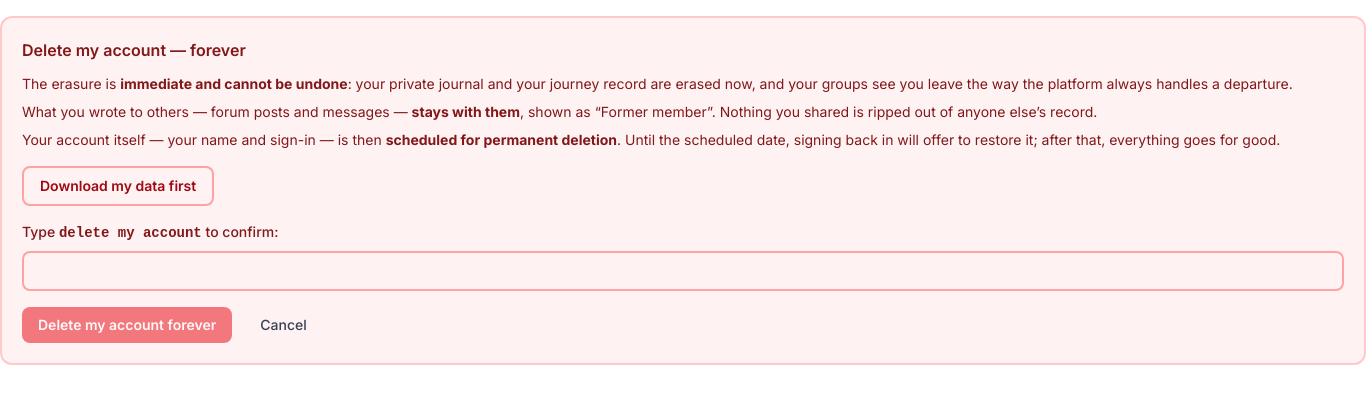
Test: DeleteAccountCeremony (FEAT-H029) › STORY-5: a refused delete shows the honest error, no farewell, retry possible
Type "delete my account" into the field with test id "delete-confirm-input" at (683, 271), box top-left (22, 251), bottom-right (1344, 291)
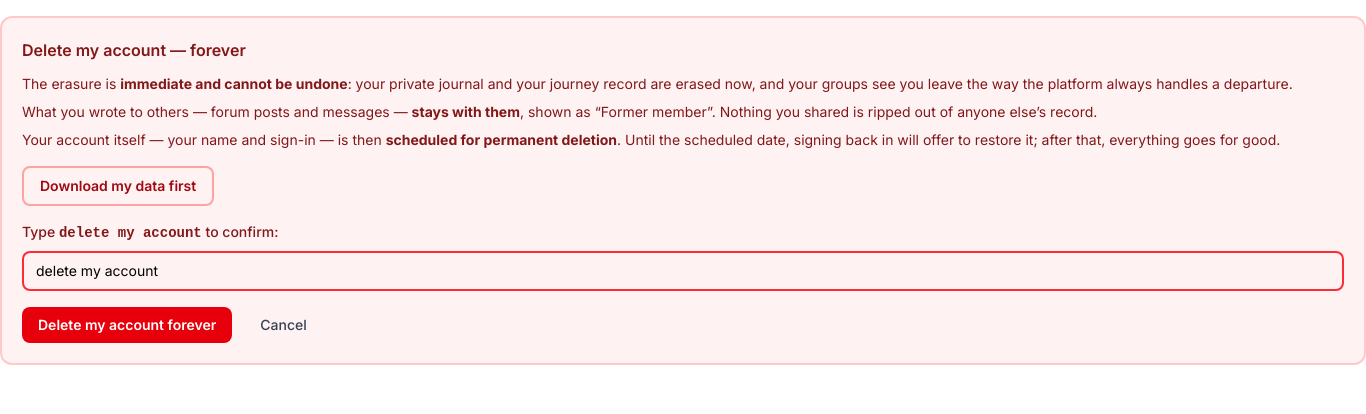
Click the button with test id "delete-account-confirm" at (127, 325), box top-left (22, 307), bottom-right (232, 343)
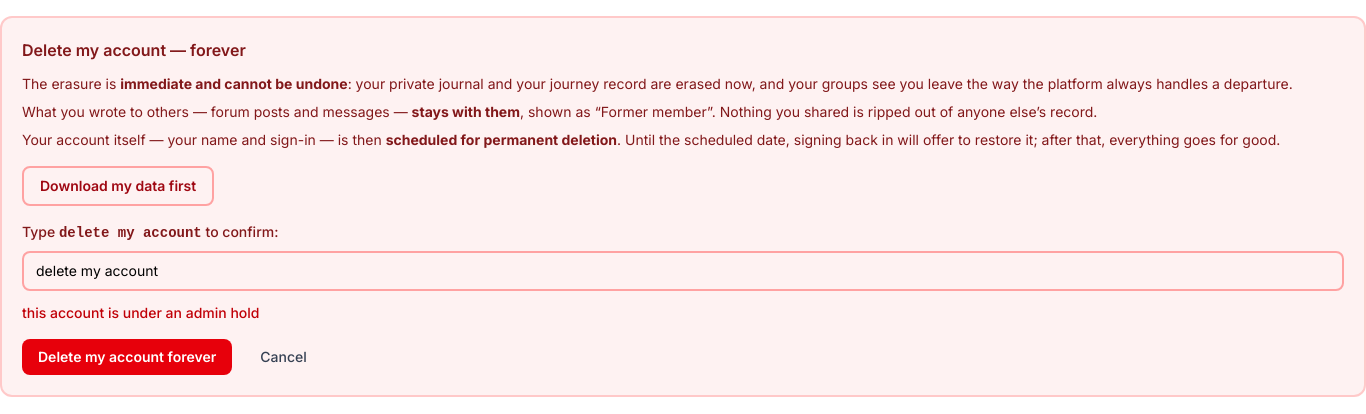
Now the button with test id "delete-account-confirm" is enabled, box top-left (22, 339), bottom-right (232, 375)
Now the message with test id "delete-error" shows "admin hold", box top-left (22, 304), bottom-right (260, 321)
